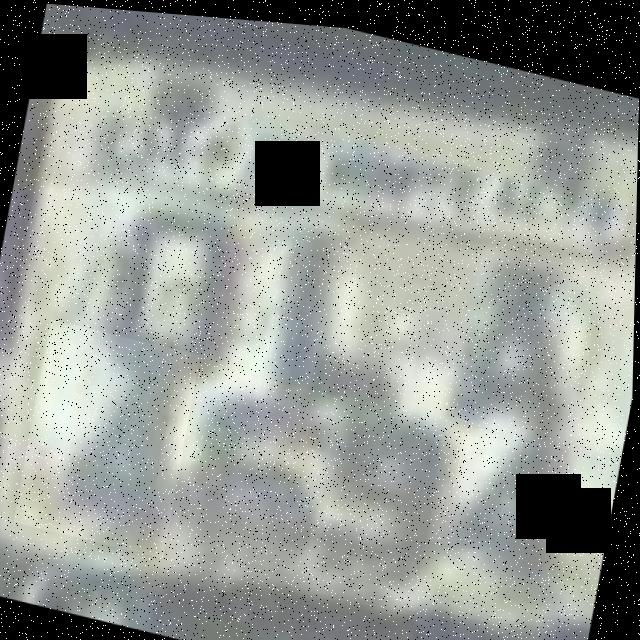4: (16, 317, 203, 557), (401, 382, 572, 620)
5: (148, 353, 343, 573)
9: (287, 380, 449, 589)
B: (427, 229, 599, 455)
